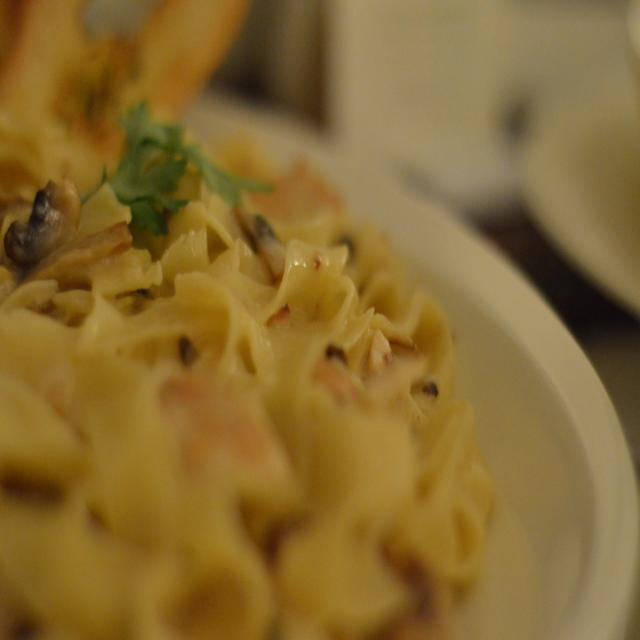Pasta: (0, 0, 496, 638)
